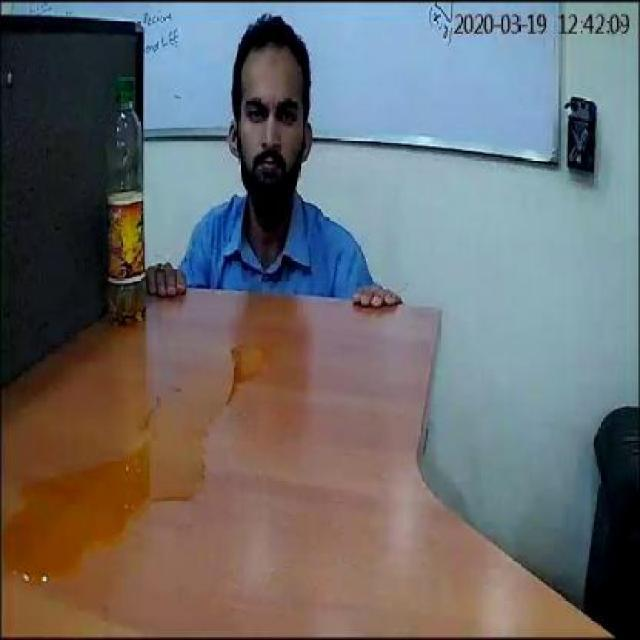spill: (3, 342, 263, 584)
